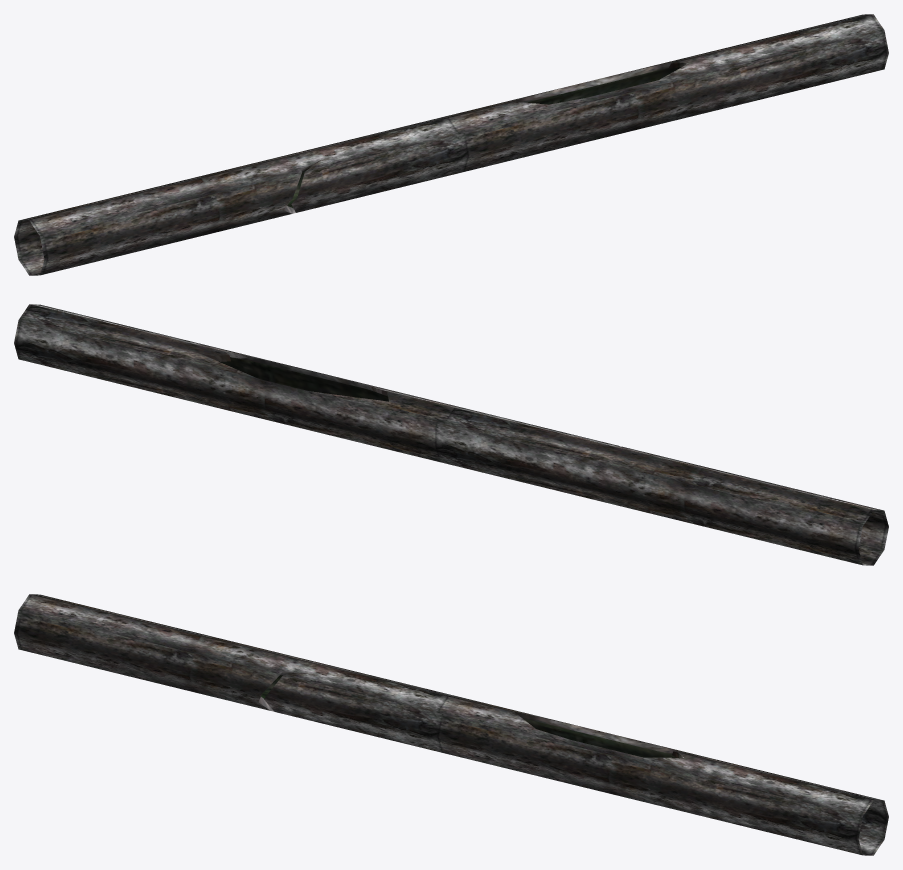
Rendered from straight_grey_slum_8m.fbx.
3 renders of one model, top to bottom at view 1: azimuth 30°, elevation 25°; view 2: azimuth 150°, elevation 25°; view 3: azimuth 330°, elevation 25°, orthographic.
Parts seen in each view (by area): view 1: mesh_0; view 2: mesh_0; view 3: mesh_0.
Boxes of the visible parts, x1,y1,x2,y2 form: mesh_0: (14,14,888,275); mesh_0: (14,304,888,565); mesh_0: (14,594,888,855).
Bounding box in the file's own units: 800 × 50 × 50.
1 material, 1 textured.
